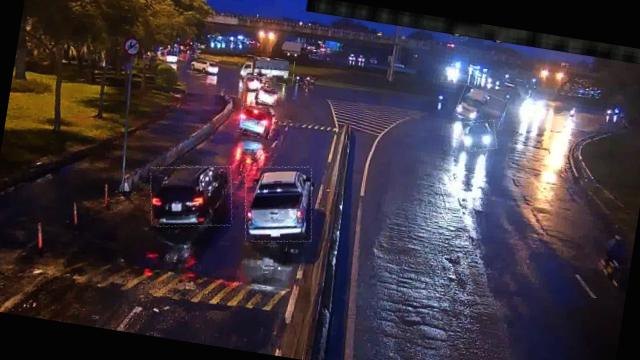Car: (144, 157, 238, 234), (238, 160, 320, 248), (460, 117, 500, 154), (237, 103, 276, 138), (186, 54, 219, 76), (254, 86, 278, 106), (240, 74, 260, 94)
Truck: (454, 86, 508, 129), (238, 54, 295, 87)
